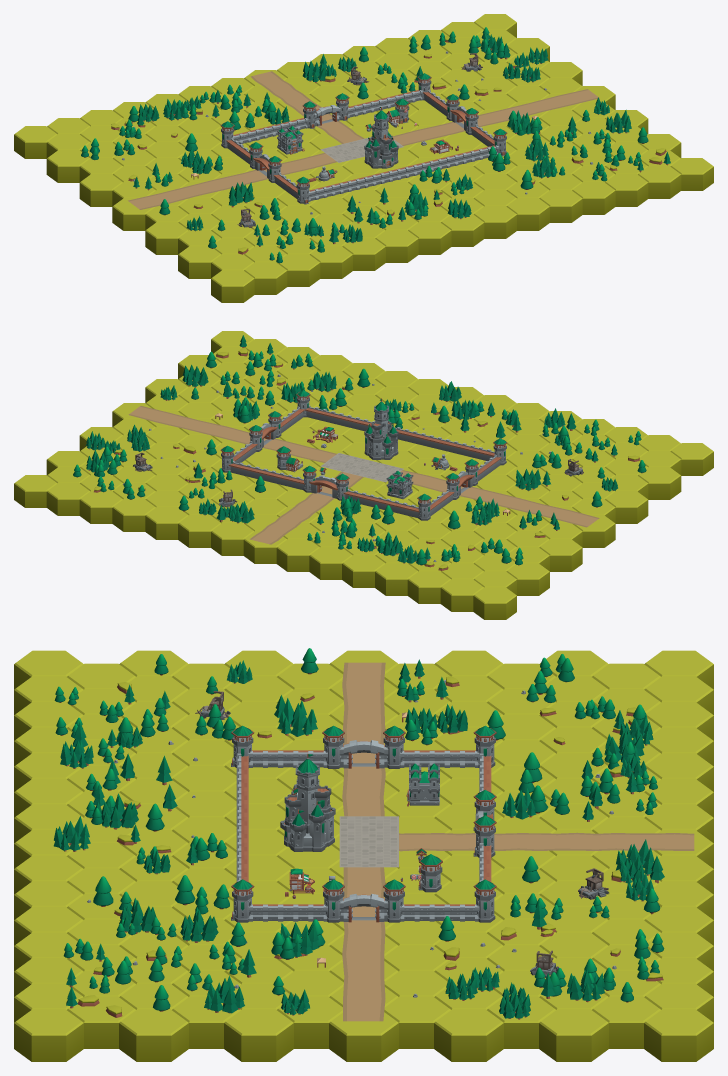
File: Last_Citadel_Map.fbx
The picture shows the model from 3 angles, top to bottom: view 1: azimuth 30°, elevation 25°; view 2: azimuth 150°, elevation 25°; view 3: azimuth 270°, elevation 25°; orthographic projection. The views are drawn at different scales.
Parts seen in each view (by area): view 1: West and east causeway, Citadel keep, North approach, Grass -7 -6, West and east causeway / verge, Grass +5 -6, Grass -6 -6, Grass -7 +2, Grass +4 -6, Grass +6 -6, Grass -1 -6, Grass -5 -6 (+59 smaller); view 2: West and east causeway, Citadel keep, North approach, Grass -7 +6, West and east causeway / verge, Grass -5 +6, Grass -6 +6, Grass -7 -2, Grass +6 +6, Grass +4 +6, Grass -1 +6, Grass +5 +6 (+61 smaller); view 3: West and east causeway, North approach, Citadel keep, Grass +7 +2, Grass +7 +4, Grass +7 +6, Grass +7 -2, Grass +7 -6, Grass +7 -4, Grass +7 +0, West and east causeway / verge, Grass +6 +1 (+161 smaller).
Part boxes in pixels (box(x1,y1,x2,y2)): West and east causeway: box(129, 90, 598, 208); Citadel keep: box(364, 107, 398, 168); North approach: box(253, 71, 362, 143); Grass -7 -6: box(211, 270, 254, 302); West and east causeway / verge: box(128, 89, 599, 209); Grass +5 -6: box(605, 174, 648, 206); Grass -6 -6: box(244, 262, 287, 294); Grass -7 +2: box(79, 174, 122, 206); Grass +4 -6: box(572, 182, 615, 214); Grass +6 -6: box(638, 166, 681, 198); Grass -1 -6: box(408, 222, 451, 254); Grass -5 -6: box(276, 254, 320, 286); West and east causeway: box(130, 406, 597, 526); Citadel keep: box(364, 398, 398, 459); North approach: box(252, 472, 361, 543); Grass -7 +6: box(473, 587, 516, 619); West and east causeway / verge: box(128, 406, 599, 527); Grass -5 +6: box(407, 571, 451, 603); Grass -6 +6: box(440, 579, 483, 611); Grass -7 -2: box(605, 491, 648, 523); Grass +6 +6: box(46, 483, 89, 515); Grass +4 +6: box(112, 499, 155, 531); Grass -1 +6: box(276, 539, 319, 571); Grass +5 +6: box(79, 491, 122, 523); West and east causeway: box(346, 662, 381, 1021); North approach: box(399, 834, 694, 849); Citadel keep: box(280, 753, 335, 851); Grass +7 +2: box(434, 1009, 503, 1061); Grass +7 +4: box(539, 1009, 608, 1061); Grass +7 +6: box(644, 1009, 713, 1061); Grass +7 -2: box(224, 1009, 293, 1061); Grass +7 -6: box(14, 1009, 83, 1061); Grass +7 -4: box(119, 1009, 188, 1061); Grass +7 +0: box(329, 1012, 398, 1061); West and east causeway / verge: box(342, 662, 385, 1021); Grass +6 +1: box(384, 996, 450, 1048).
Bounding box in the file's own units: 6000 × 845 × 4619.
8 materials, 1 textured.
